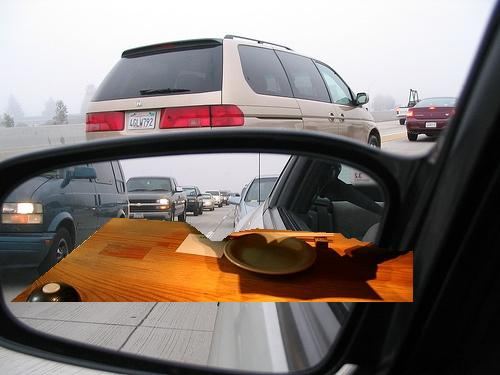tampered: (11, 219, 413, 302)
